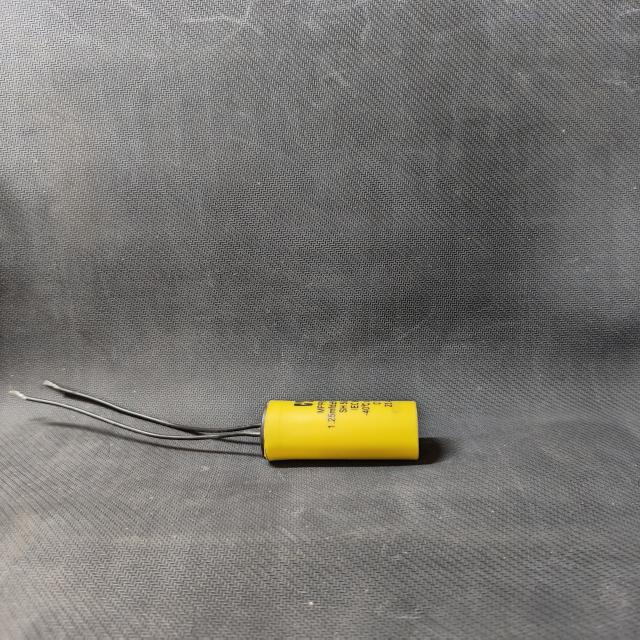capacitor: (6, 374, 434, 468)
